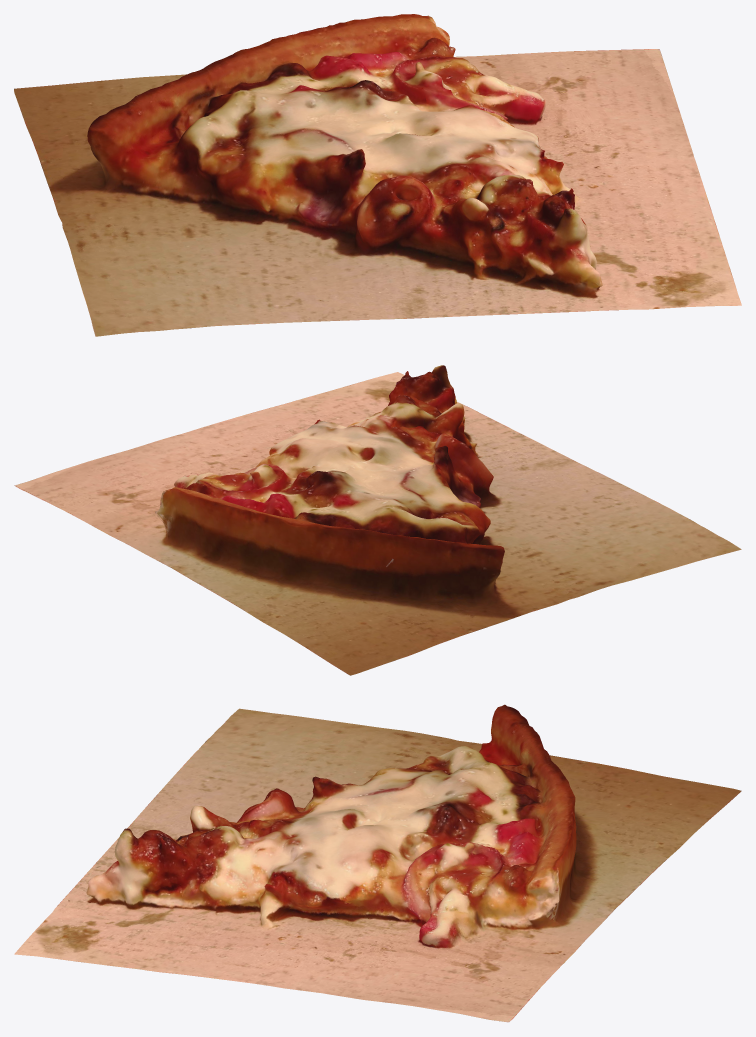
File: DEMO-MENULENS.glb
3 views of the same model, one above another, from view 1: azimuth 30°, elevation 25°; view 2: azimuth 150°, elevation 25°; view 3: azimuth 270°, elevation 25° (orthographic). The views are drawn at different scales.
Visible parts, largest first — view 1: Object_3; view 2: Object_3; view 3: Object_3.
Boxes of the visible parts, <box> form: Object_3: <box>14,14,741,336</box>; Object_3: <box>14,365,741,675</box>; Object_3: <box>14,704,741,1022</box>.
Size of the model in its own units: 0.2677 by 0.032 by 0.2561.
Materials: 1 (1 with a texture image).
